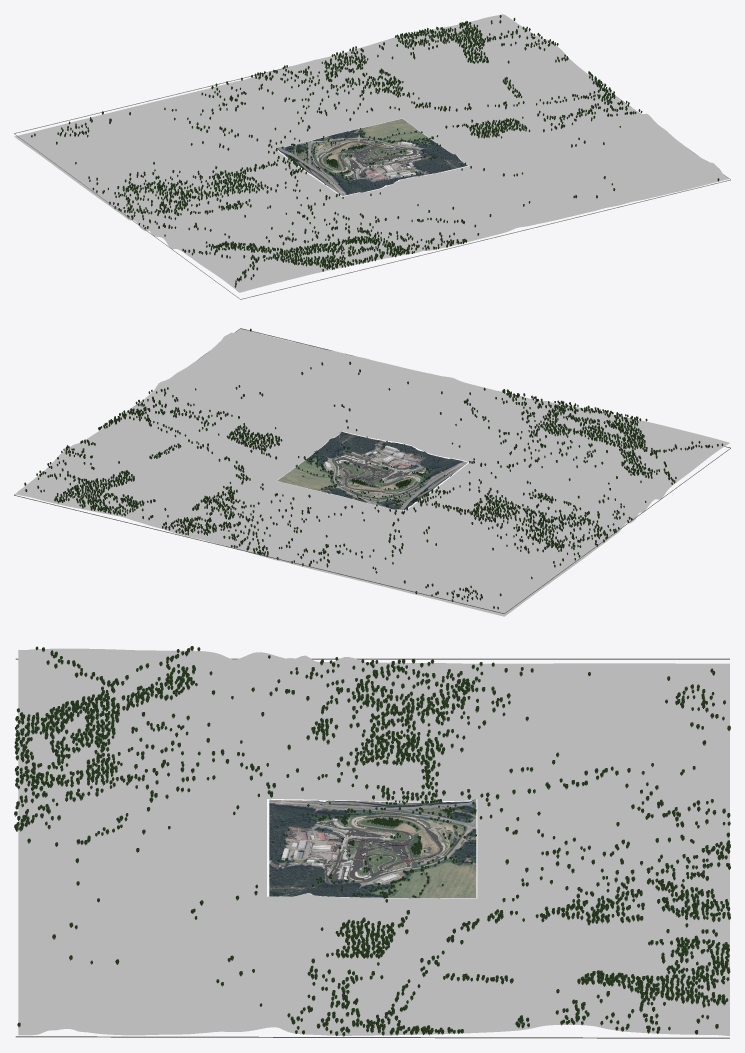
File: sosnova.obj
3 renders of one model, top to bottom at view 1: azimuth 30°, elevation 25°; view 2: azimuth 150°, elevation 25°; view 3: azimuth 270°, elevation 25°, orthographic. The views are drawn at different scales.
Visible parts, largest first — view 1: 1GRASS_far_00, 1GRASS_far_01, 1GRASS_far_02, 1GRASS_ground_2, 1GRASS_ground_3, 1GRASS_ground, 1GRASS_ground_1, 1ROAD_paddock, 1ROAD_track_00, 1GRASS_ground_4, TREESFAR_015, TREESFAR_007 (+20 smaller); view 2: 1GRASS_far_01, 1GRASS_far_00, 1GRASS_far_02, 1GRASS_ground_3, 1GRASS_ground_2, 1GRASS_ground_1, 1GRASS_ground, 1ROAD_paddock, 1ROAD_track_00, 1GRASS_ground_4, TREESFAR_015, TREESFAR_007 (+20 smaller); view 3: 1GRASS_far_01, 1GRASS_far_00, 1GRASS_far_02, 1GRASS_ground_3, 1GRASS_ground_2, 1GRASS_ground, 1GRASS_ground_1, 1ROAD_paddock, 1ROAD_track_00, 1GRASS_ground_4, TREESFAR_015, TREESFAR_007 (+23 smaller).
Boxes of the visible parts, <box> form: 1GRASS_far_00: <box>14,14,605,212</box>; 1GRASS_far_01: <box>119,90,715,282</box>; 1GRASS_far_02: <box>227,165,728,292</box>; 1GRASS_ground_2: <box>303,136,444,180</box>; 1GRASS_ground_3: <box>320,149,459,190</box>; 1GRASS_ground: <box>277,118,413,157</box>; 1GRASS_ground_1: <box>290,127,426,167</box>; 1ROAD_paddock: <box>277,137,429,195</box>; 1ROAD_track_00: <box>319,140,430,179</box>; 1GRASS_ground_4: <box>335,159,467,196</box>; TREESFAR_015: <box>144,106,642,252</box>; TREESFAR_007: <box>88,39,568,184</box>; 1GRASS_far_01: <box>120,335,717,539</box>; 1GRASS_far_00: <box>15,419,608,616</box>; 1GRASS_far_02: <box>227,329,729,450</box>; 1GRASS_ground_3: <box>320,438,459,479</box>; 1GRASS_ground_2: <box>302,449,444,493</box>; 1GRASS_ground_1: <box>289,463,425,502</box>; 1GRASS_ground: <box>277,472,413,510</box>; 1ROAD_paddock: <box>300,441,467,509</box>; 1ROAD_track_00: <box>334,450,425,492</box>; 1GRASS_ground_4: <box>334,432,467,468</box>; TREESFAR_015: <box>147,385,675,520</box>; TREESFAR_007: <box>61,439,563,567</box>; 1GRASS_far_01: <box>57,648,404,1035</box>; 1GRASS_far_00: <box>400,663,729,1035</box>; 1GRASS_far_02: <box>18,648,61,1035</box>; 1GRASS_ground_3: <box>295,800,341,896</box>; 1GRASS_ground_2: <box>340,801,397,897</box>; 1GRASS_ground: <box>439,799,476,897</box>; 1GRASS_ground_1: <box>397,801,439,898</box>; 1ROAD_paddock: <box>269,800,476,892</box>; 1ROAD_track_00: <box>316,815,442,883</box>; 1GRASS_ground_4: <box>269,799,295,896</box>; TREESFAR_015: <box>185,646,328,1034</box>; TREESFAR_007: <box>496,667,585,1028</box>.
Size of what is drawn, in the model's own units: 2506 by 65.24 by 2007.
